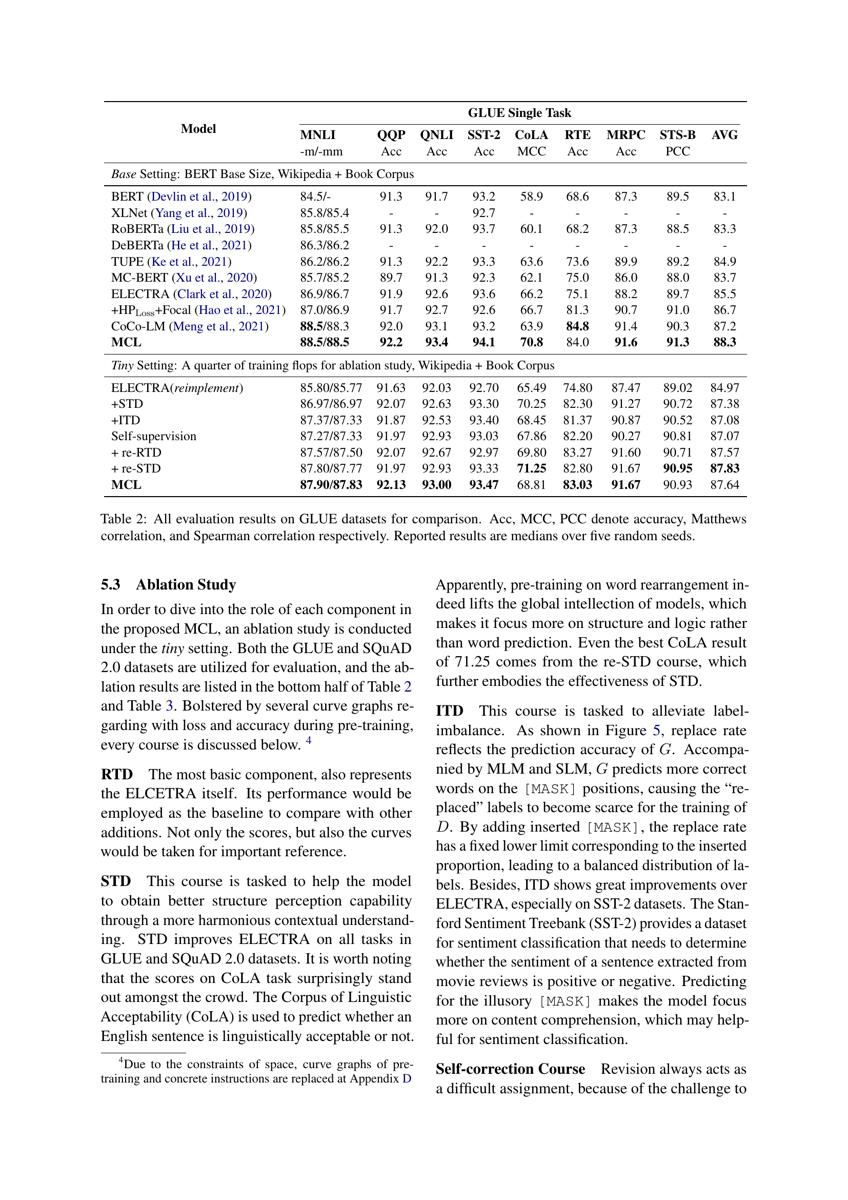table: (96, 98, 751, 550)
text: (430, 574, 753, 1101), (95, 572, 418, 1048)
